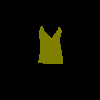canottiera: (38, 26, 63, 64)
